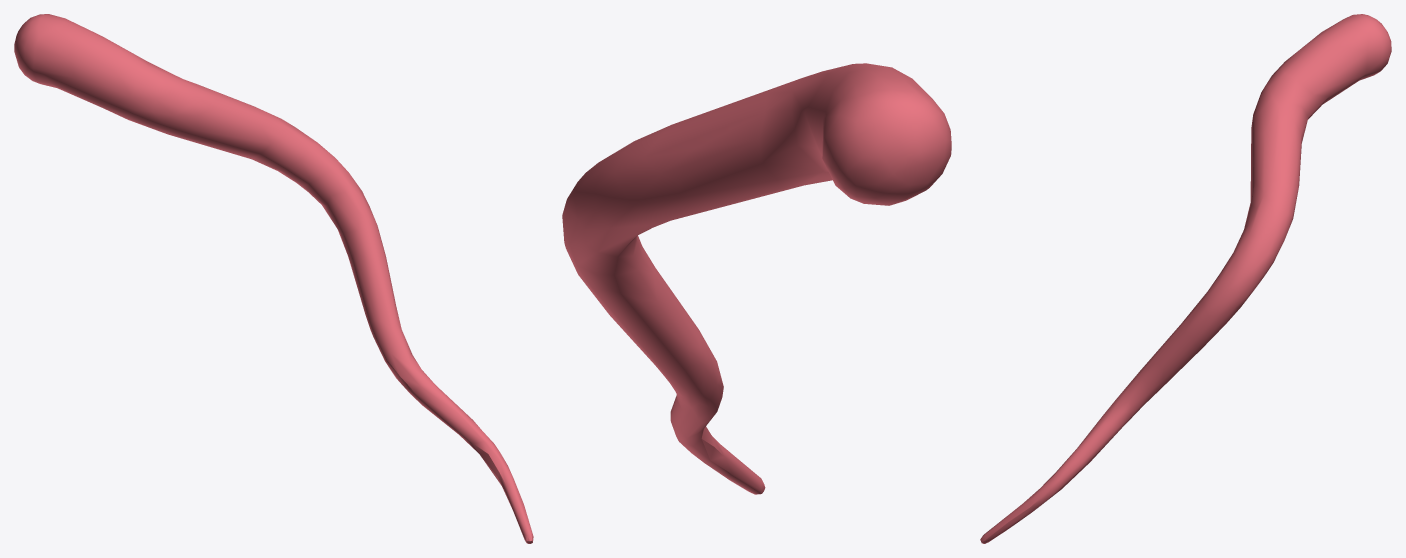
File: fma15804_fj3097.glb
3 views of the same model, side by side, from view 1: azimuth 30°, elevation 25°; view 2: azimuth 150°, elevation 25°; view 3: azimuth 270°, elevation 25° (orthographic). The views are drawn at different scales.
Parts seen in each view (by area): view 1: FMA15804_FJ3097; view 2: FMA15804_FJ3097; view 3: FMA15804_FJ3097.
Part boxes in pixels (x1,y1,x2,y2): FMA15804_FJ3097: (14, 14, 533, 543); FMA15804_FJ3097: (562, 63, 951, 494); FMA15804_FJ3097: (980, 14, 1391, 543).
Bounding box in the file's own units: 0.0351 × 0.047 × 0.0435.
